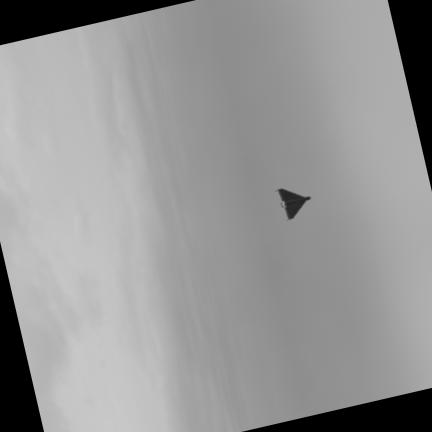Shahed: (276, 188, 310, 219)
